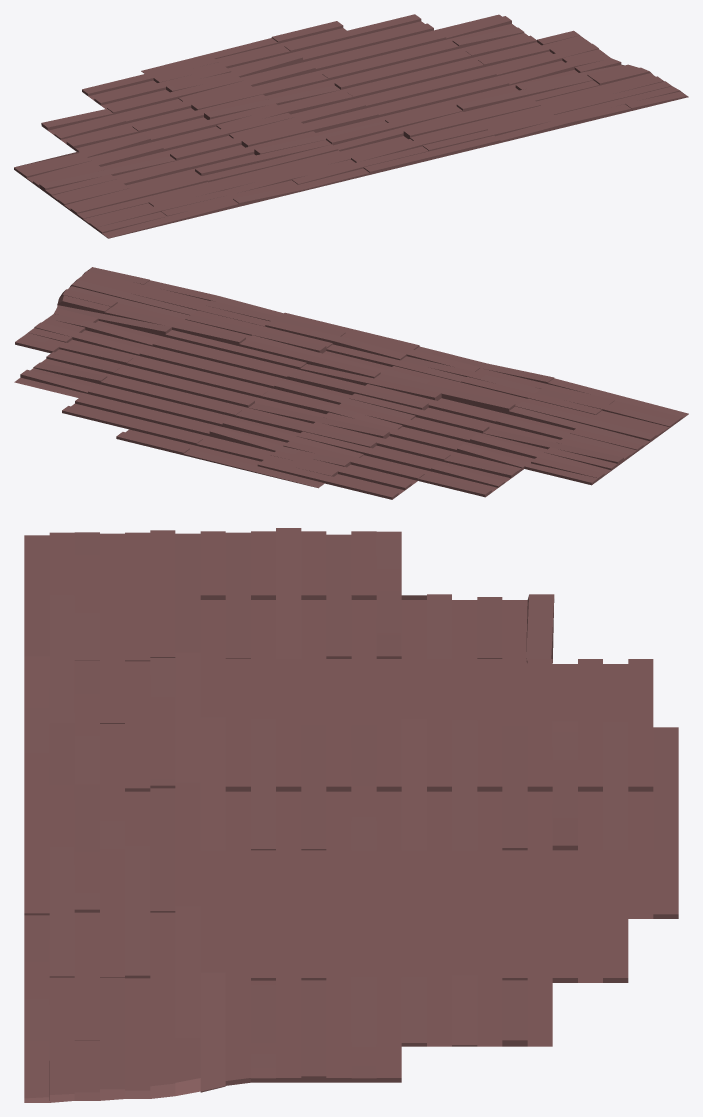
The model's file is floor.fbx.
3 views of the same model, one above another, from view 1: azimuth 30°, elevation 25°; view 2: azimuth 150°, elevation 25°; view 3: azimuth 270°, elevation 25° (orthographic). The views are drawn at different scales.
Parts seen in each view (by area): view 1: floor; view 2: floor; view 3: floor.
Boxes of the visible parts, x1,y1,x2,y2 form: floor: (14,14,688,238); floor: (14,267,688,499); floor: (24,528,678,1102).
Bounding box in the file's own units: 1927 × 22.49 × 940.
